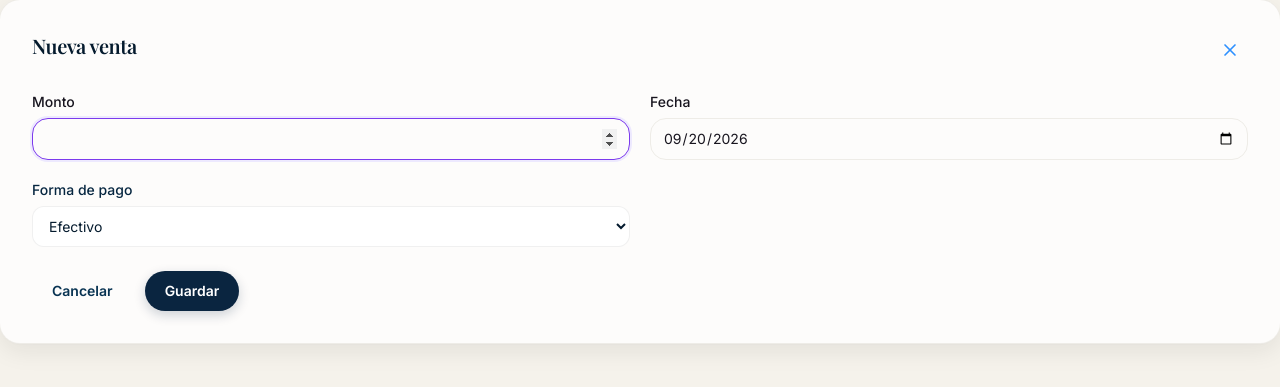
VentaForm — client validation names the rule (task 6.5) › refuses a future date, naming the rule
Select "Efectivo" in the dropdown labelled "Forma de pago" at (331, 226), box [32,206,630,247]
Type "2099-12-31" into the date field with id "fecha".
click(949, 139); type("2099-12-31")  # box [650,118,1248,160]
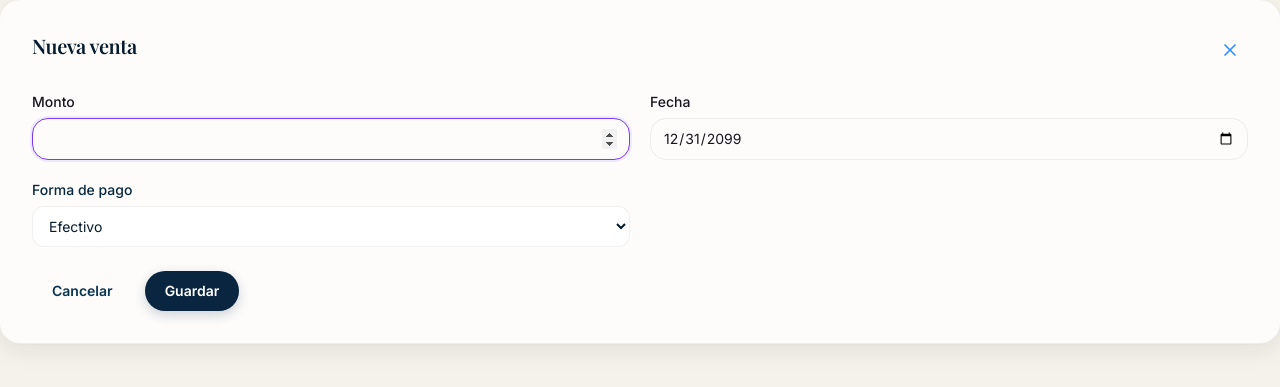
Type "1000" into the number field labelled "Monto".
click(331, 139); type("1000")  # box [32,118,630,160]
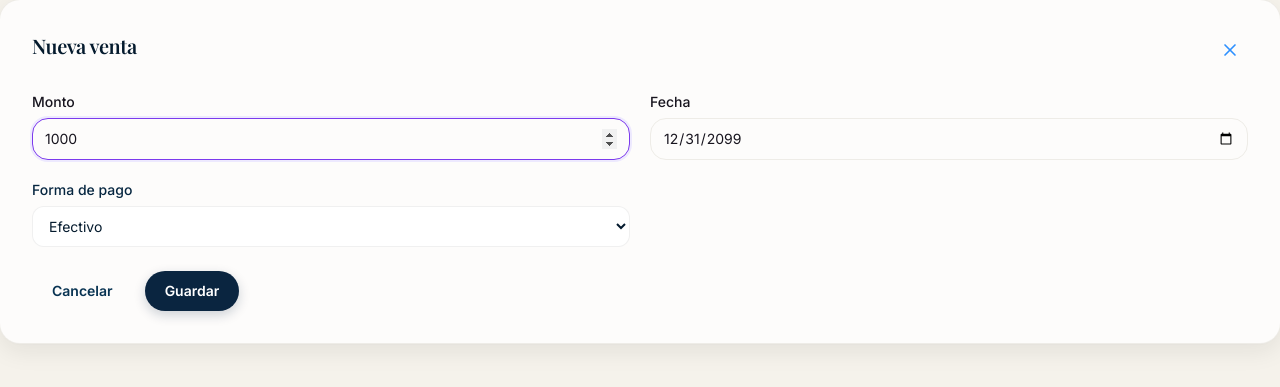
Click the button "Guardar".
click(192, 291)  # box [145,271,239,311]
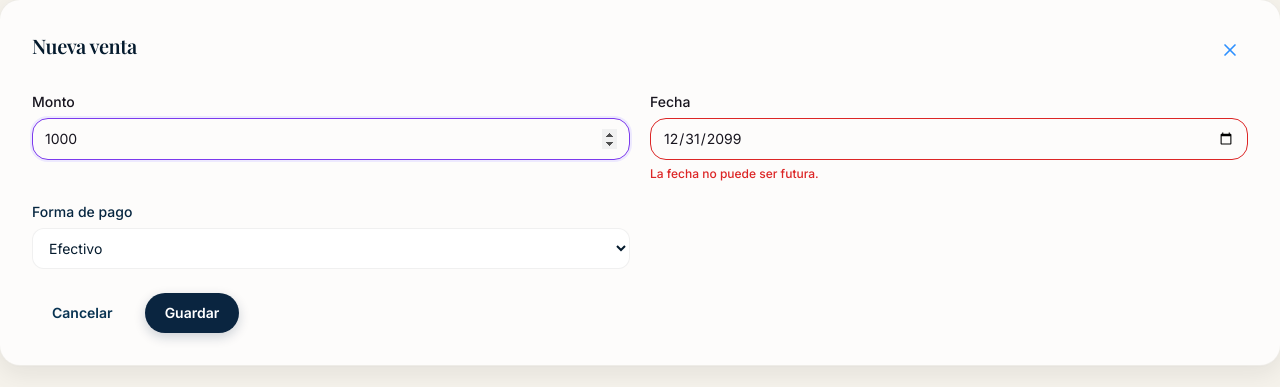
Now the message reads "La fecha no puede ser futura.", box [650,166,819,181]
